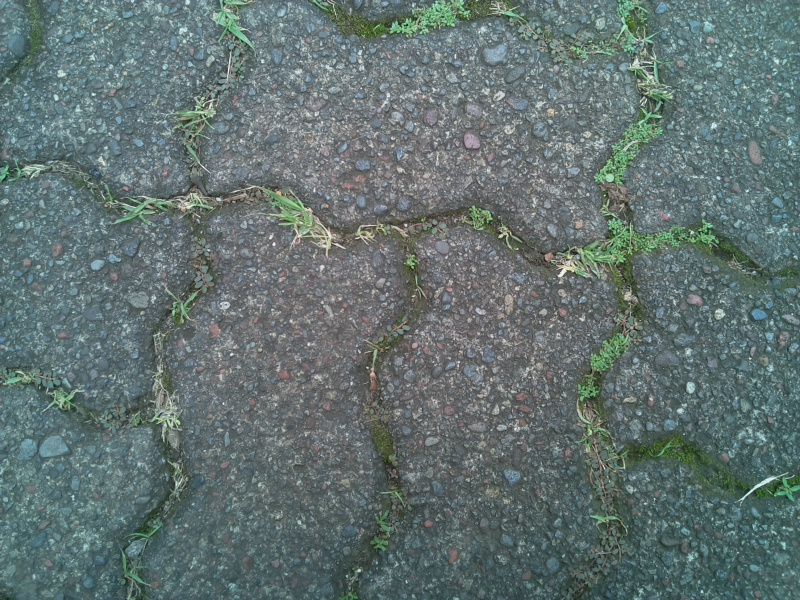Weed: (609, 214, 721, 271), (259, 187, 341, 261), (586, 114, 671, 185), (111, 181, 208, 237), (569, 332, 637, 400), (571, 403, 630, 474), (385, 5, 480, 45), (546, 234, 607, 287), (142, 377, 195, 437), (207, 4, 261, 57), (624, 66, 684, 113), (173, 91, 225, 143), (37, 371, 87, 423), (155, 281, 205, 327), (156, 459, 201, 510), (608, 21, 664, 60), (111, 550, 154, 598), (364, 509, 400, 555), (403, 209, 446, 243), (458, 198, 493, 237), (769, 470, 800, 509), (489, 218, 523, 253), (353, 218, 390, 250), (396, 247, 430, 275)
